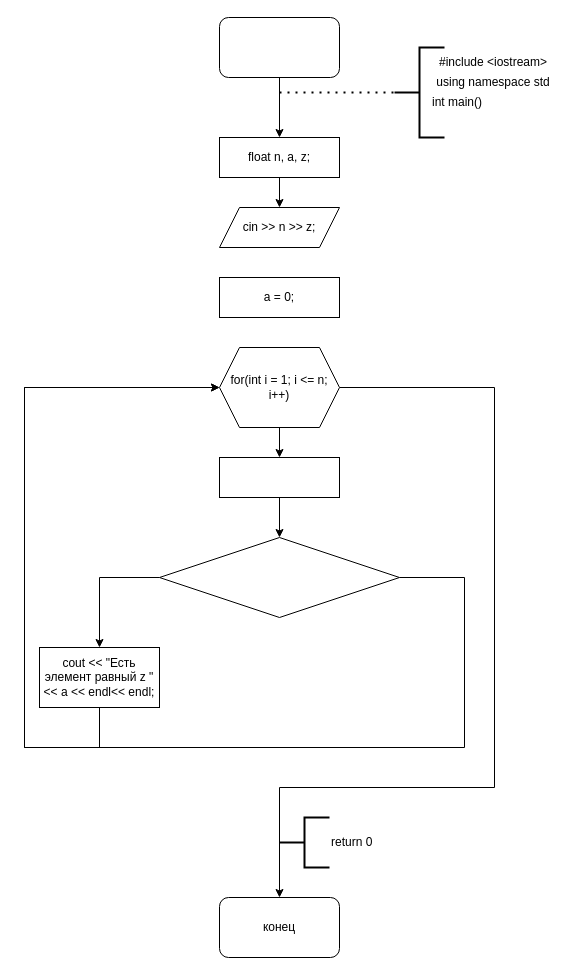
Image size: 582x975. Some labels were removed from this diagram. Here are the shapes that lost their labels. From the top down, the centre of each, then its label:
(279,47): начало
(279,477): a += 1;
(279,577): if (z == (round((sin(n + (i / n)))*10))/10)
